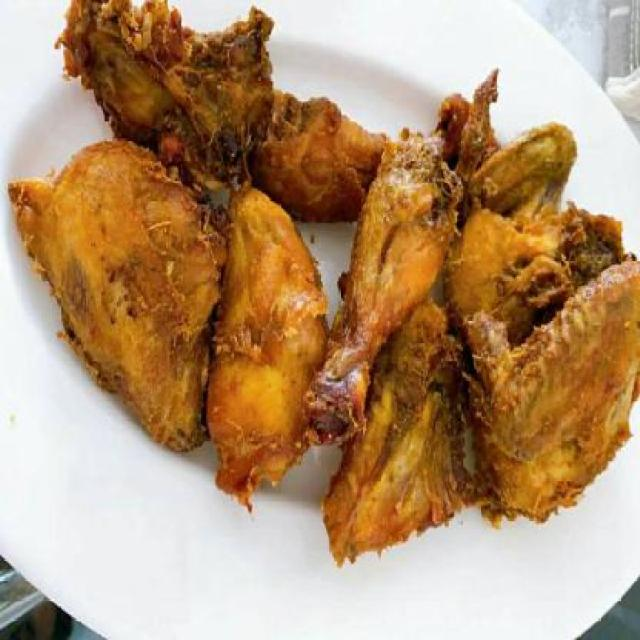Wet Waste: (449, 85, 640, 529), (303, 80, 499, 451), (57, 0, 383, 218), (6, 141, 219, 457), (323, 302, 477, 568), (212, 197, 331, 498)
